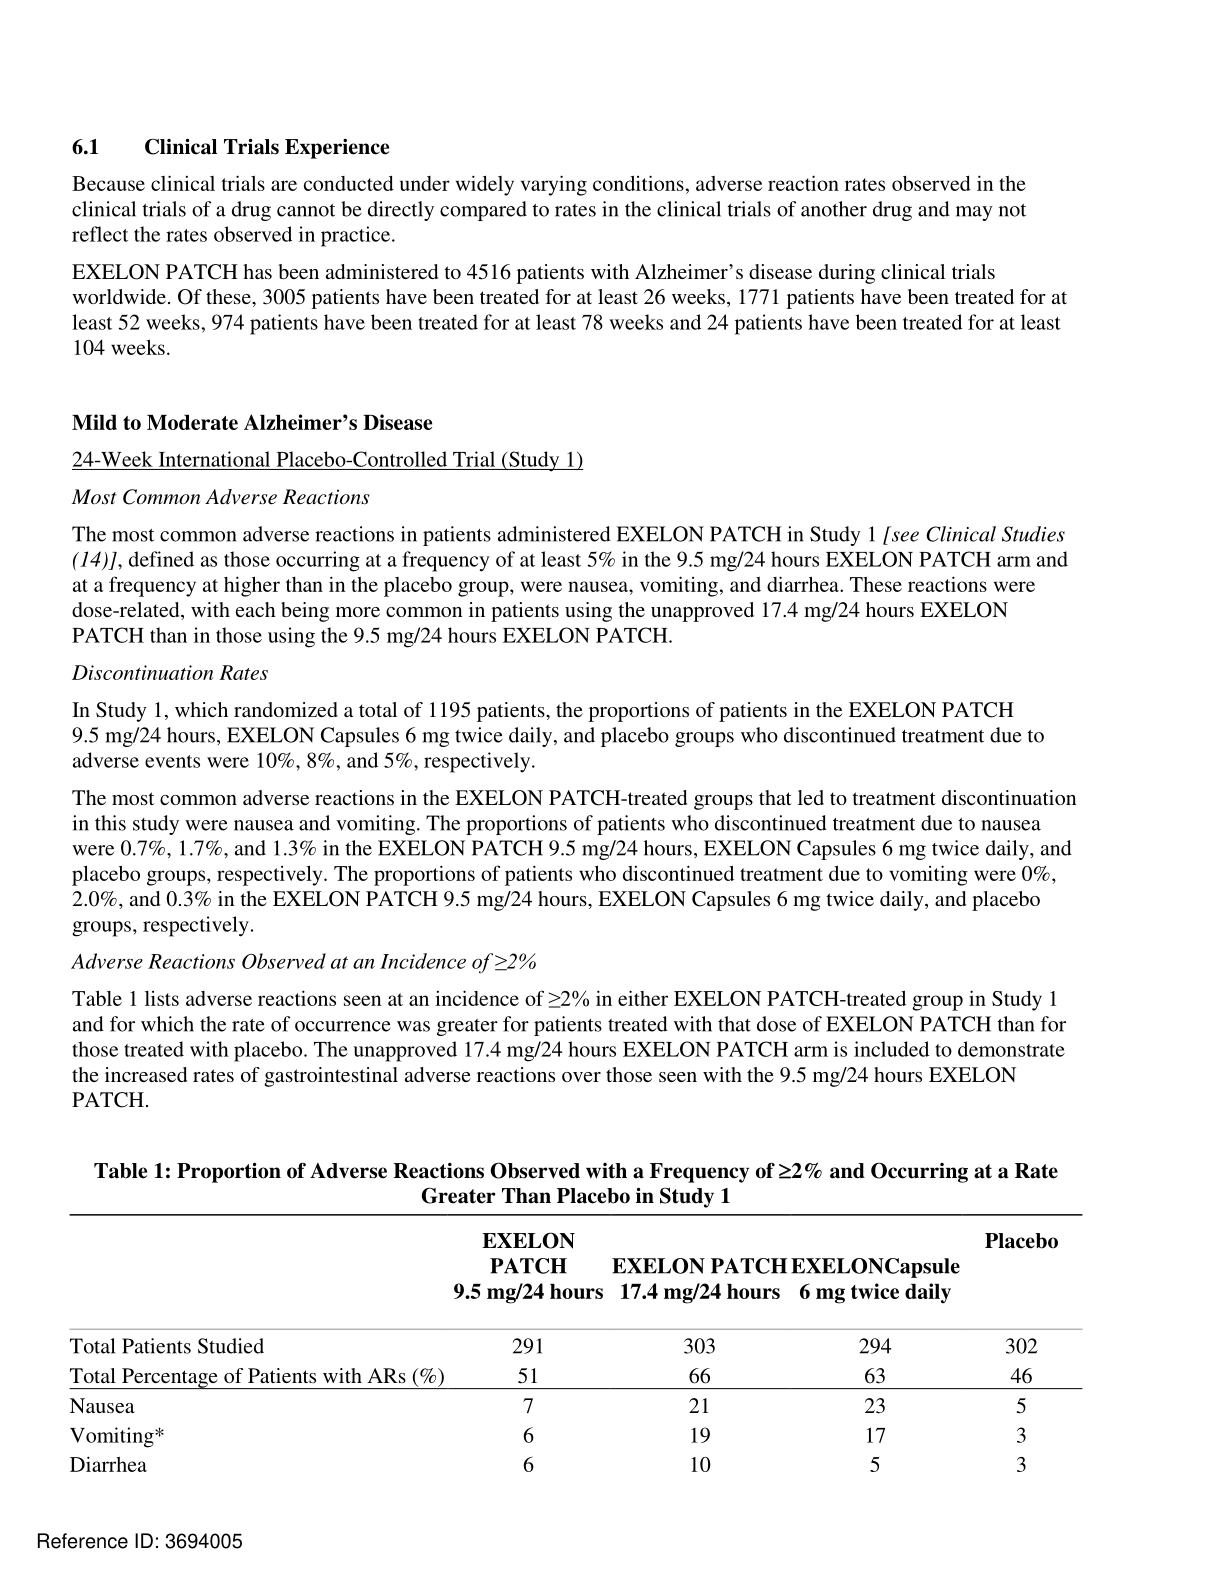partial_lined: (68, 1212, 1085, 1480)
